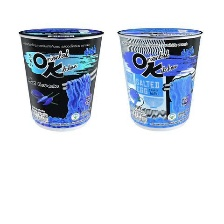paper_cup: (13, 22, 107, 134), (114, 22, 206, 135)
